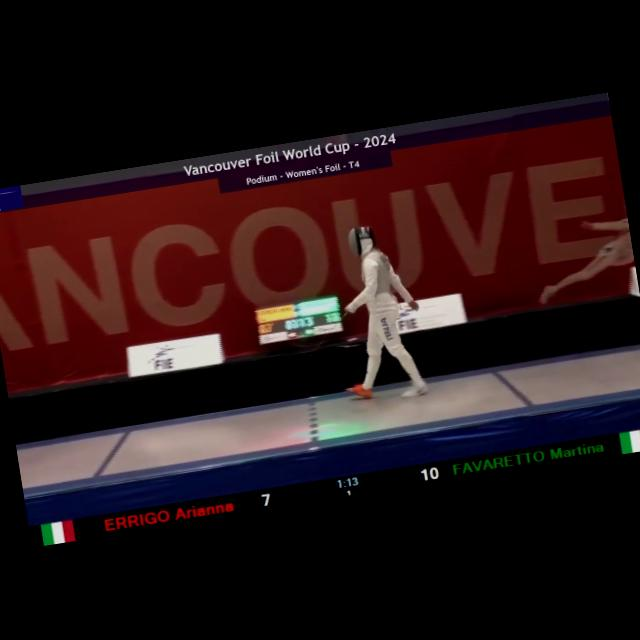blade: (300, 302, 360, 362)
